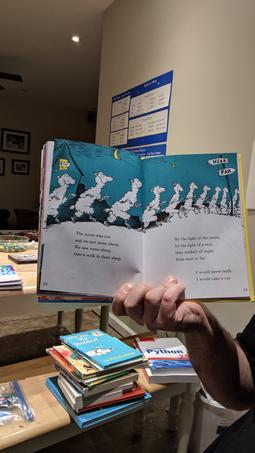text block: (66, 225, 123, 262), (169, 232, 225, 264), (189, 264, 236, 284)
